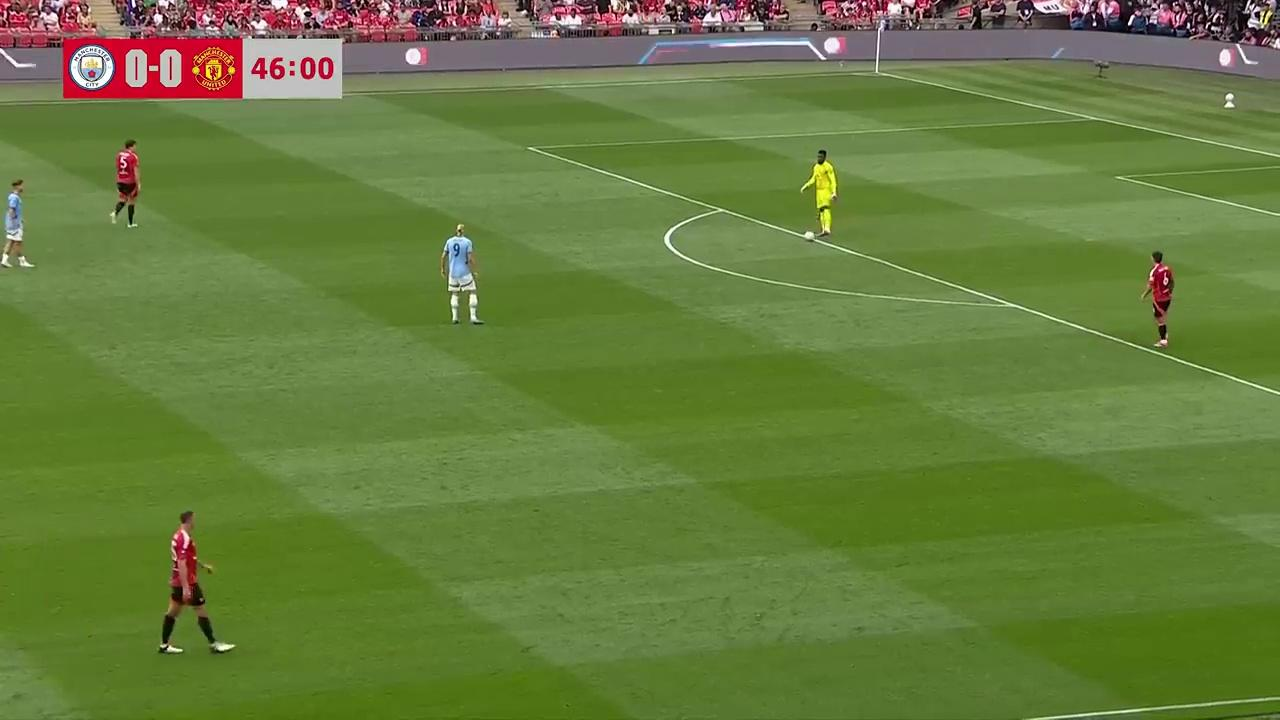ball: (803, 228, 816, 243)
player: (158, 509, 234, 656), (440, 223, 482, 325), (1140, 251, 1174, 349), (800, 149, 837, 239), (0, 179, 34, 270), (109, 139, 141, 227)
